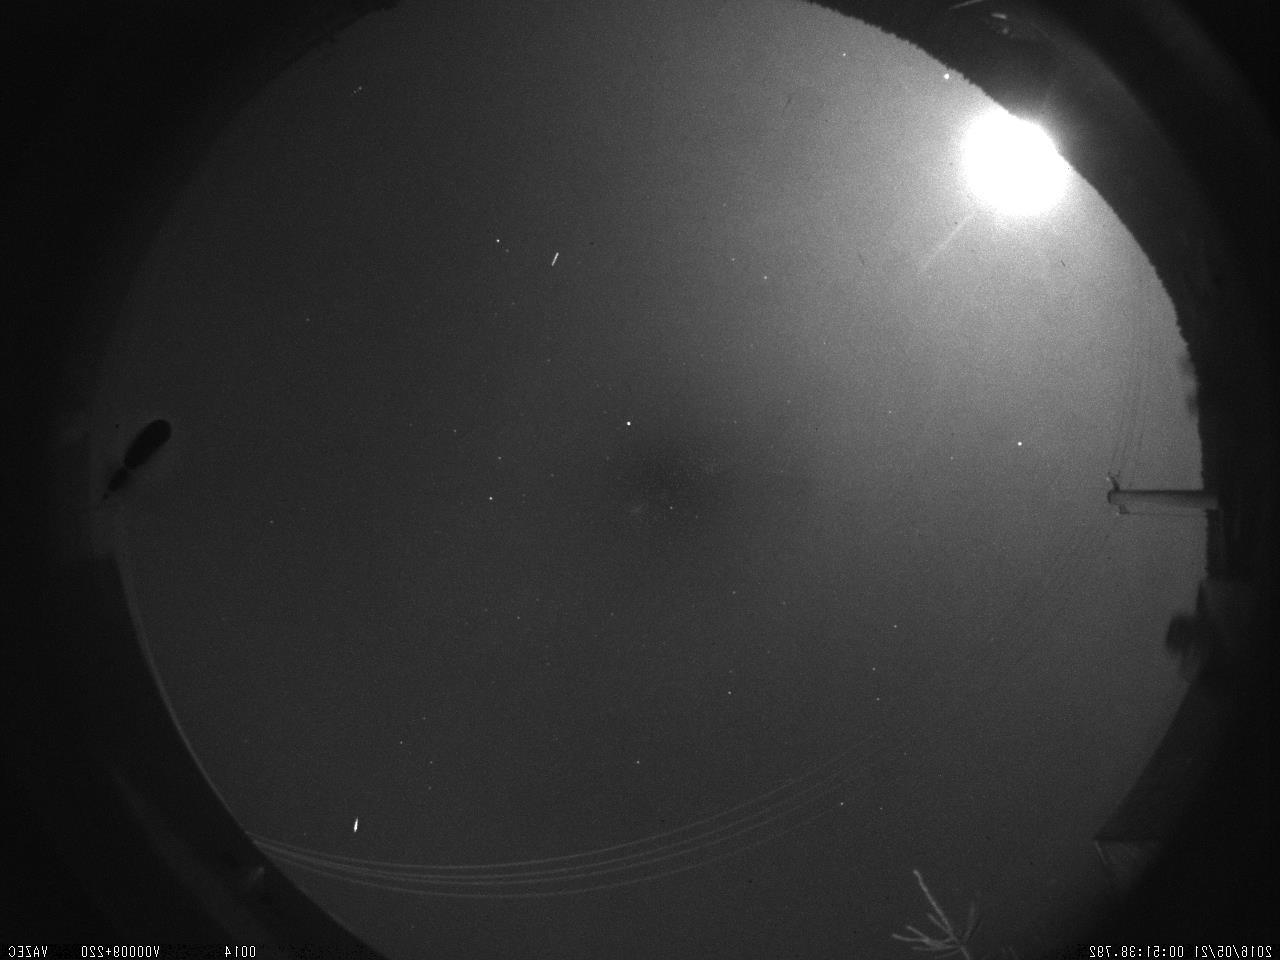meteor: (349, 814, 365, 839)
satelite: (545, 248, 567, 272)
